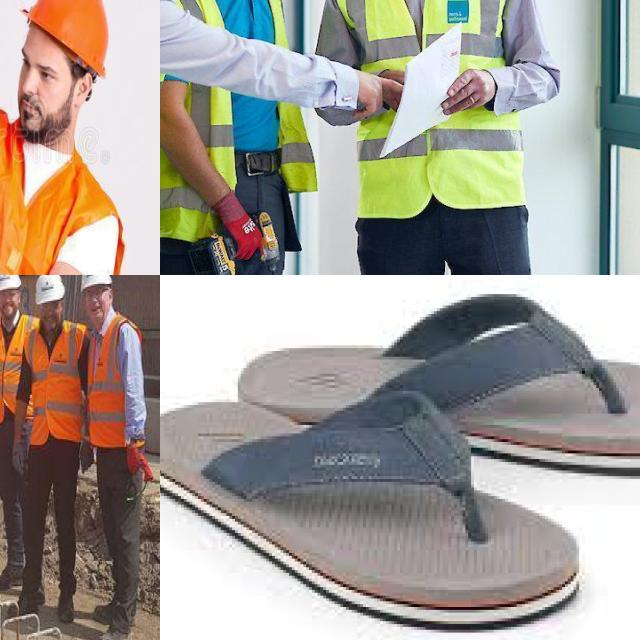Sandals: (160, 275, 640, 640)
face_nomask: (5, 34, 72, 154)
hand_glove: (204, 182, 275, 264), (120, 434, 149, 478), (4, 431, 28, 483)
hand_noglove: (354, 60, 407, 128), (438, 61, 496, 121)
head_helmet: (26, 0, 112, 69), (34, 275, 63, 306), (79, 275, 113, 290), (0, 275, 22, 293)
person: (330, 0, 557, 275), (160, 0, 310, 275), (0, 0, 120, 275), (16, 275, 85, 616), (84, 275, 145, 640), (0, 275, 24, 586)
shoes: (90, 593, 134, 626), (3, 590, 41, 621), (93, 618, 134, 640), (54, 585, 76, 626), (0, 560, 25, 593)
vest: (160, 0, 341, 275), (330, 0, 536, 215), (0, 140, 110, 275), (85, 314, 147, 451), (25, 317, 85, 447), (0, 315, 35, 418)
